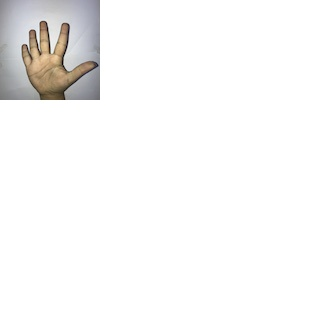paper: (15, 18, 98, 95)
